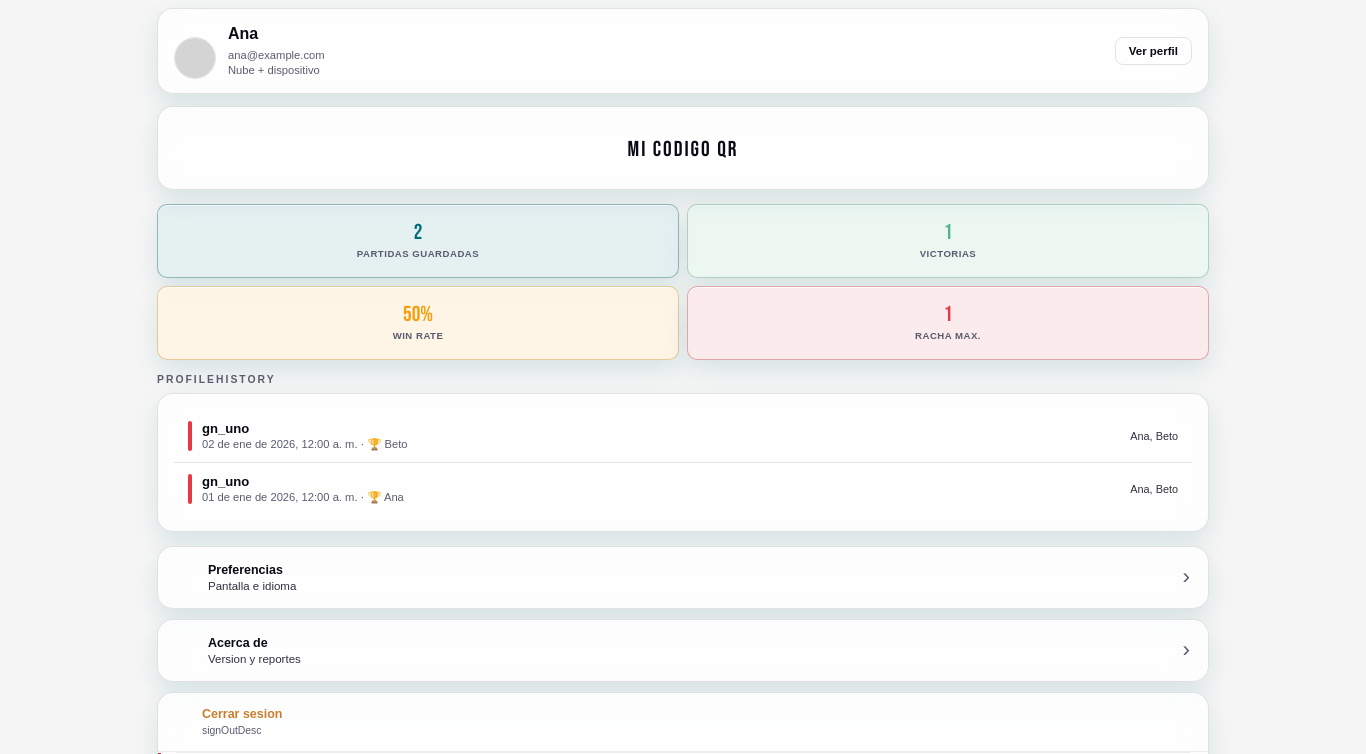
Scenario: SettingsPage › renders the profile dashboard with QR, stats, account deletion, and the view profile shortcut
Check: the text "Mi codigo QR" is shown, box 628,137 -> 738,162
Check: the text "Victorias" is shown, box 920,248 -> 976,259
Click the button "Ver perfil": coordinates (1153, 51) 1115,37 -> 1192,65
(page scrolled)
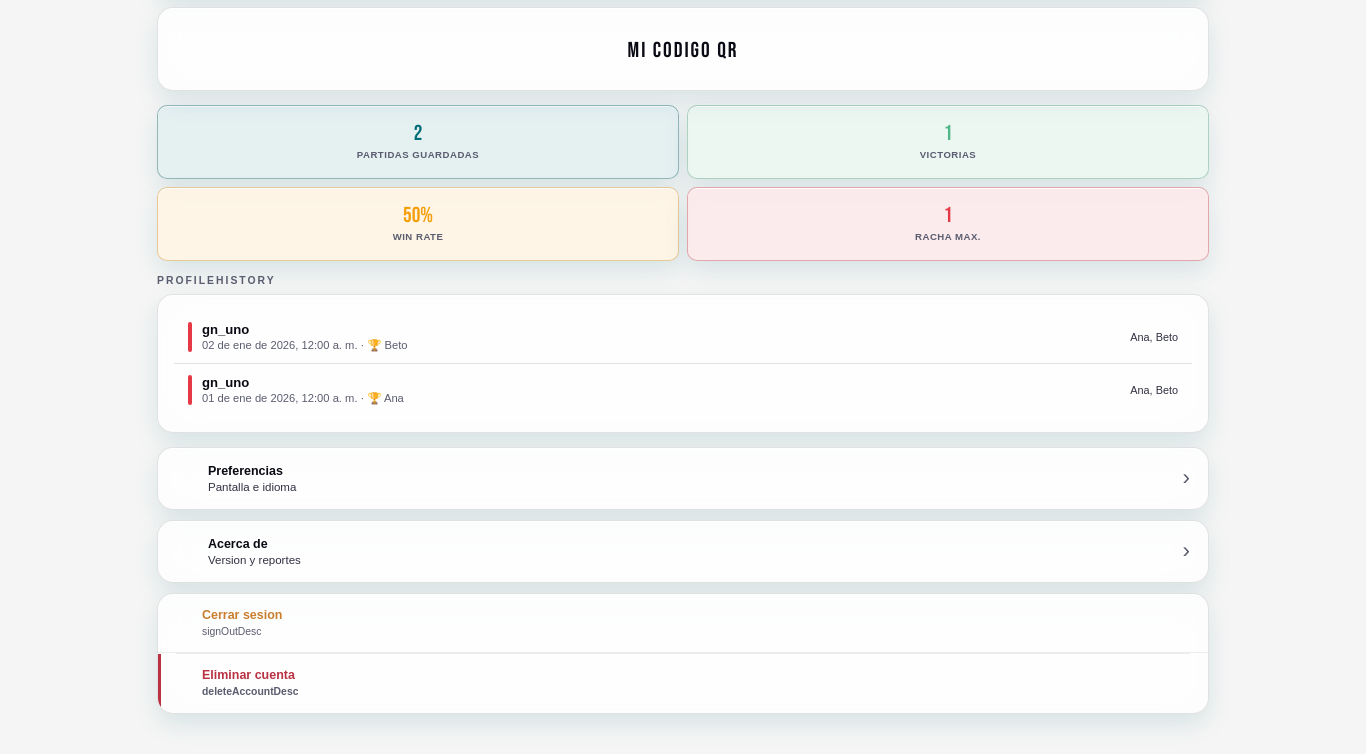
Check: the button "Eliminar cuenta deleteAccountDesc" is shown, box 158,654 -> 1208,712
